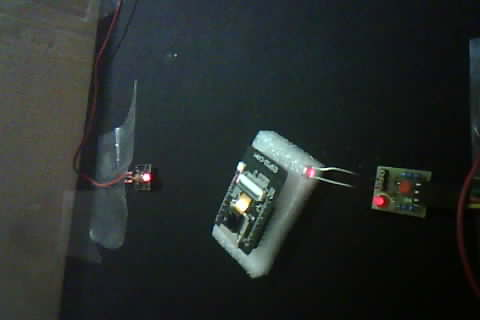esp32: (210, 131, 302, 274)
